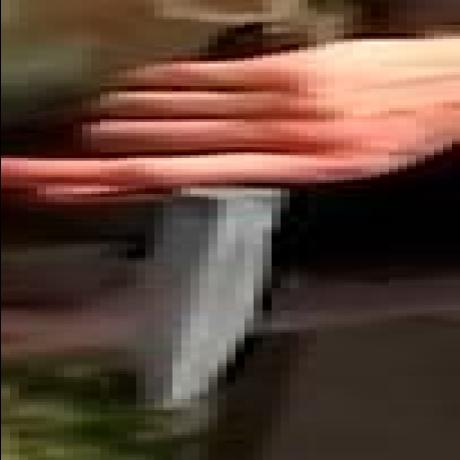1: (0, 30, 460, 200)
weapon: (115, 25, 313, 408)
